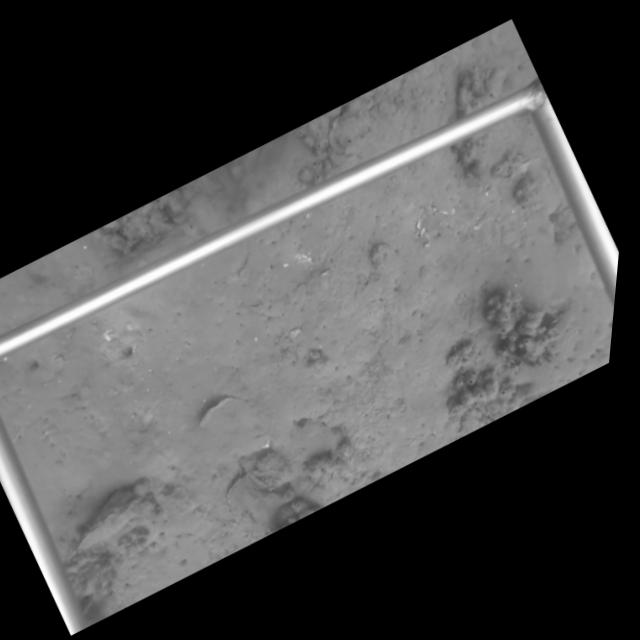Oyster-Closed: (76, 493, 154, 552)
Oyster-Indeterminate: (327, 87, 379, 171)
